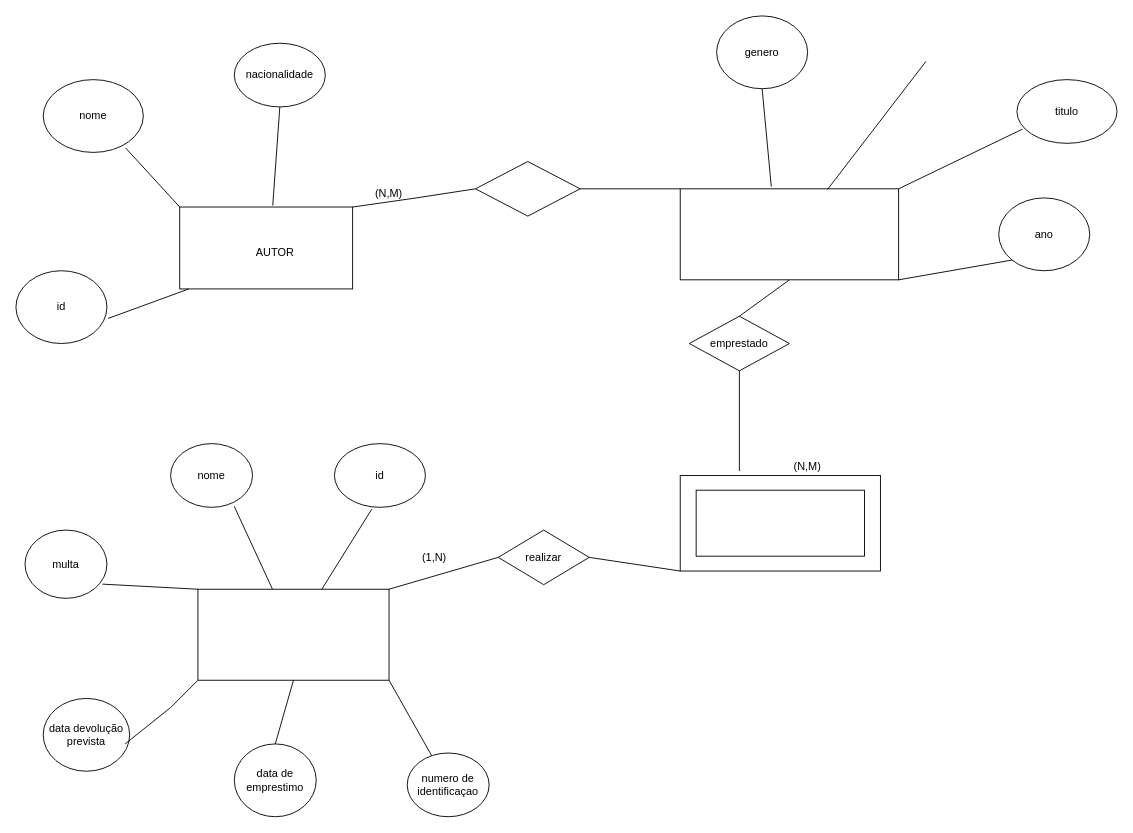
The diagram is 1133 pixels wide and 833 high, and some of its shapes have lost their labels. Here are the shapes that lost their labels. From the top down, the centre of each, then its label:
At point 527,188: "escrever".
At point 789,234: "LIVRO".
At point 779,522: "EMPRESTIMO".
At point 293,634: "LEITOR".
